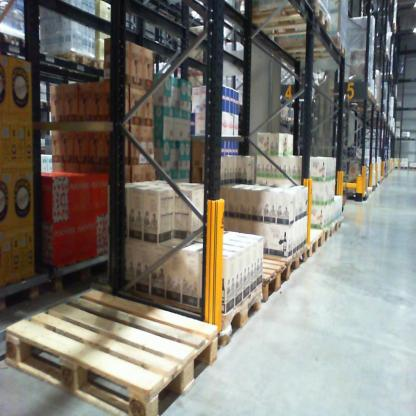pallet: (6, 256, 220, 412), (180, 265, 263, 346), (238, 2, 337, 42), (250, 241, 289, 310), (279, 37, 349, 67), (283, 241, 311, 283), (60, 42, 96, 70), (296, 227, 324, 263), (316, 221, 334, 244), (330, 216, 344, 239), (398, 165, 409, 172), (409, 166, 416, 170)
